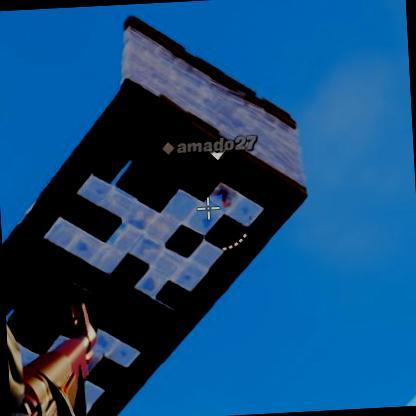person: (212, 174, 235, 212)
